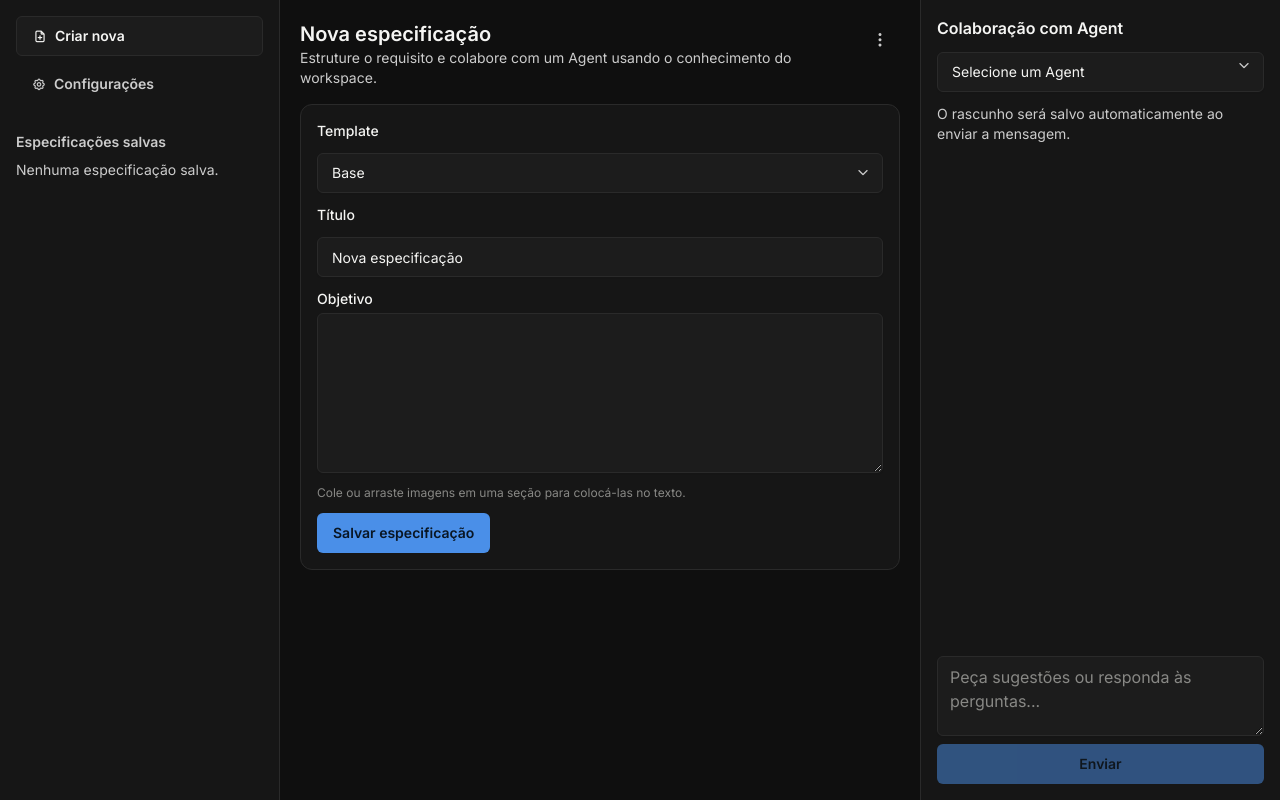
Test: SpecView gaps › moves new Specs to the next template after deleting the one in use
This screenshot has width=1280, height=800.
Expected: the heading "Nova especificação" is shown, [300,22,491,46]
Expected: the dropdown labelled "Template" shows "Base", [317,153,883,193]
Click the button "Configurações": x=140, y=84 [16,64,263,104]
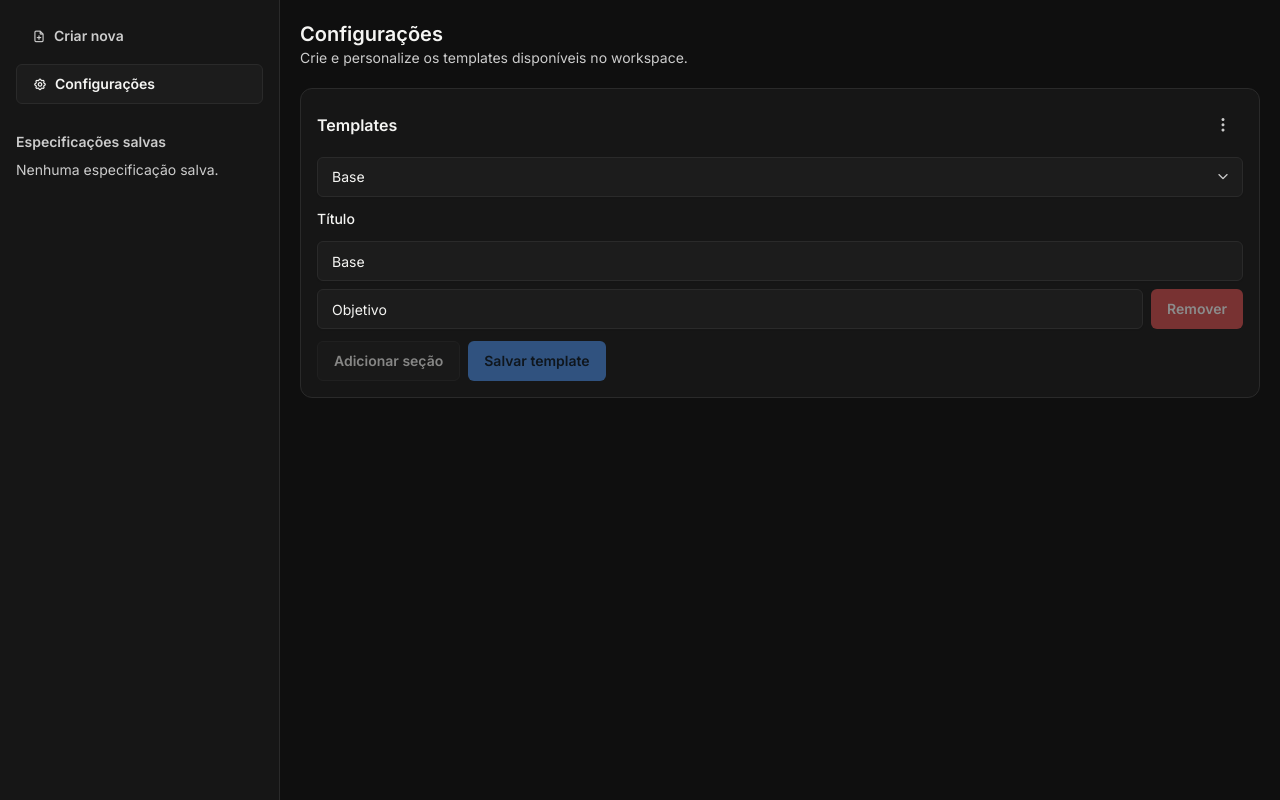
Click the button named "Ações": x=1223, y=125 [1203,105,1243,145]
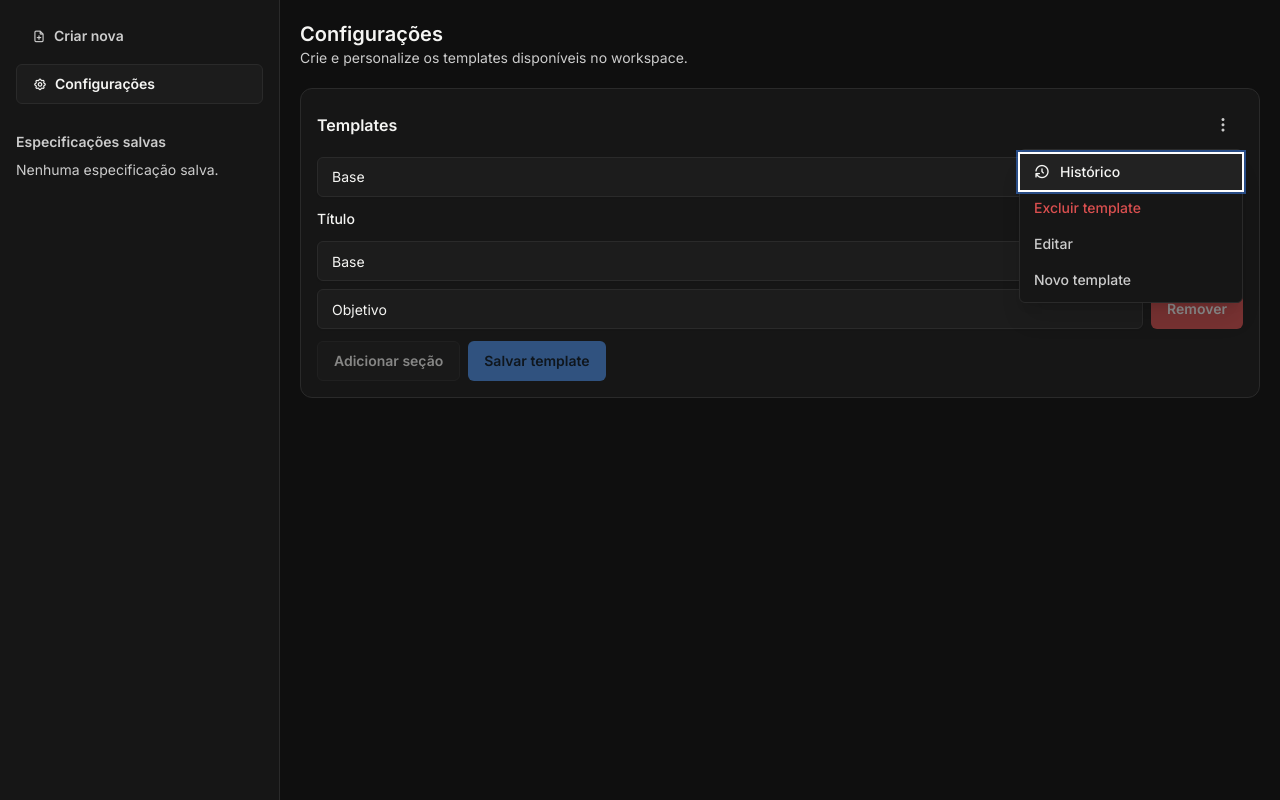
Click the button "Excluir template": x=1131, y=208 [1020,190,1242,226]
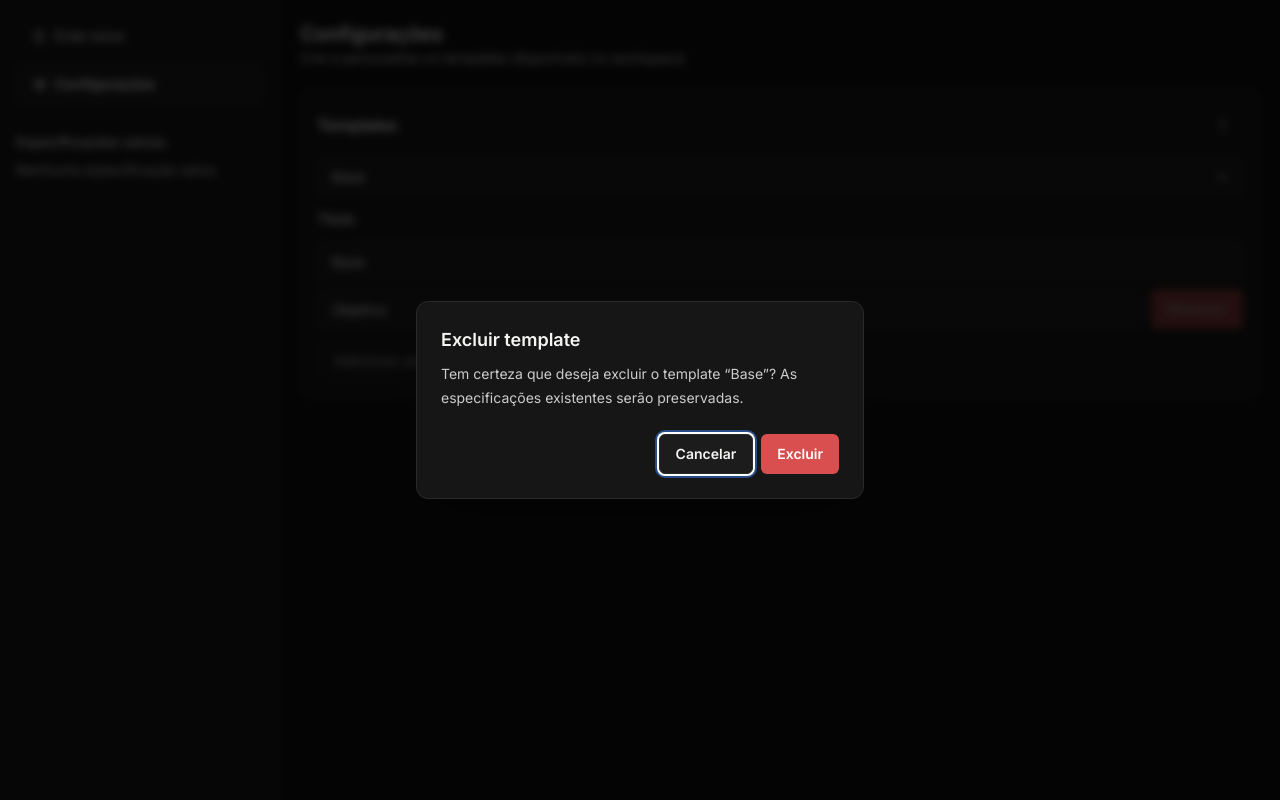
Click the button "Excluir": x=800, y=454 [761,434,839,474]
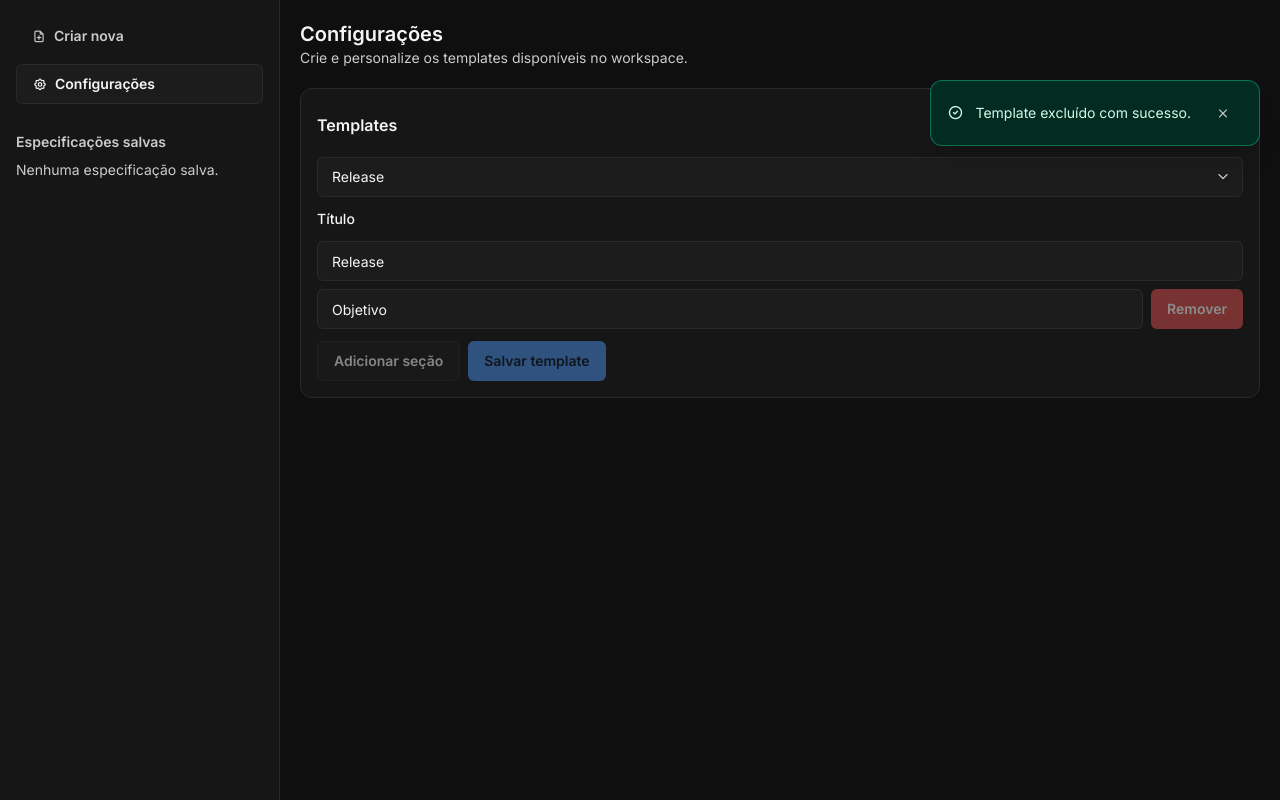
Result: the text "Template excluído com sucesso." is shown at [976,103,1191,123]
Click the button "Criar nova": x=140, y=36 [16,16,263,56]
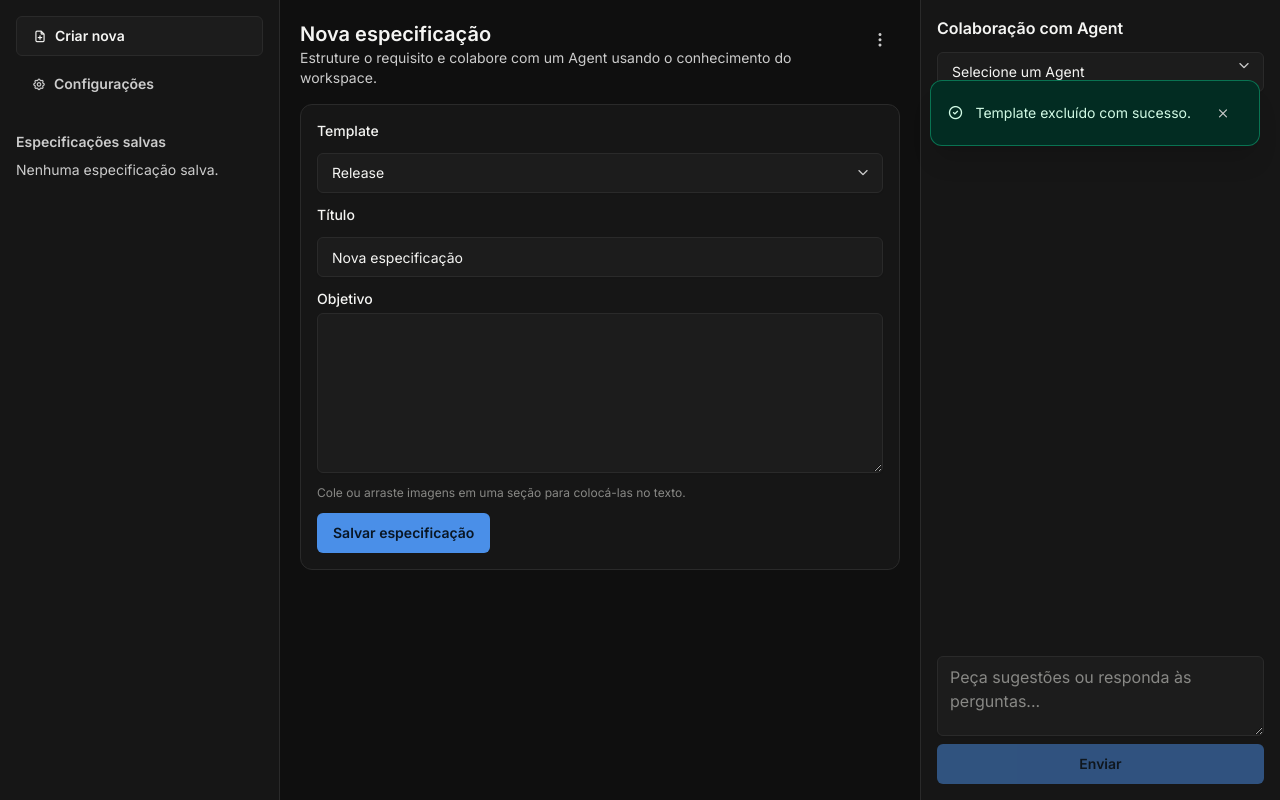
Result: the dropdown labelled "Template" shows "Release" at [317,153,883,193]
